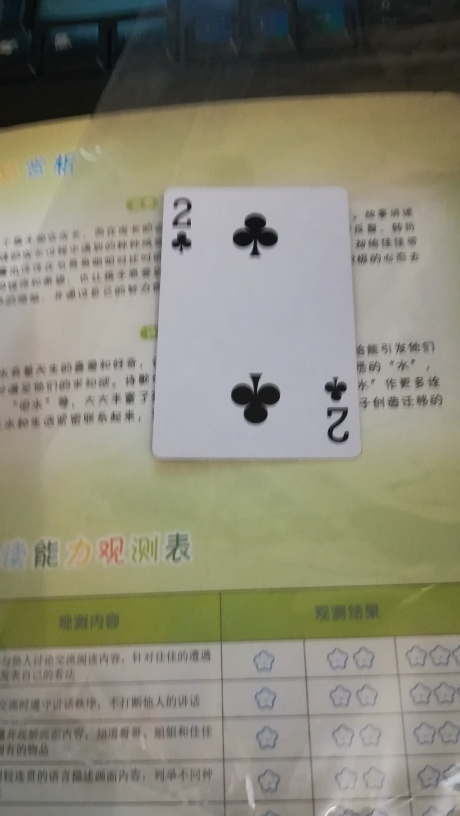mh 2: (152, 181, 359, 457)
